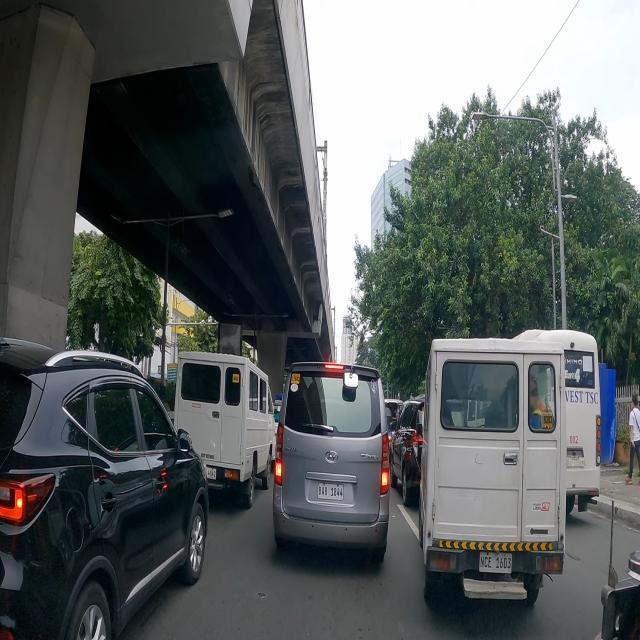bus: (513, 330, 601, 514)
car: (0, 337, 208, 639), (271, 360, 389, 562), (391, 396, 425, 506)
jeepney: (596, 500, 640, 640), (384, 399, 402, 422)
truck: (419, 338, 567, 608), (174, 352, 274, 508)
